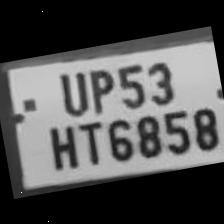3: (140, 56, 178, 105)
5: (156, 104, 192, 156), (111, 59, 148, 108)
6: (98, 112, 136, 165)
8: (128, 107, 164, 160), (184, 100, 220, 153)
H: (40, 116, 80, 172)
P: (82, 63, 118, 115)
T: (72, 116, 108, 168)
U: (49, 64, 90, 118)
